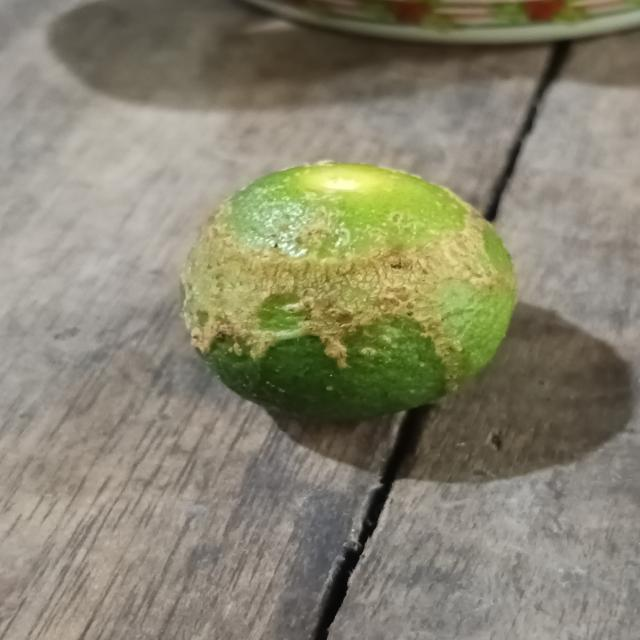thrips: (176, 164, 519, 426)
